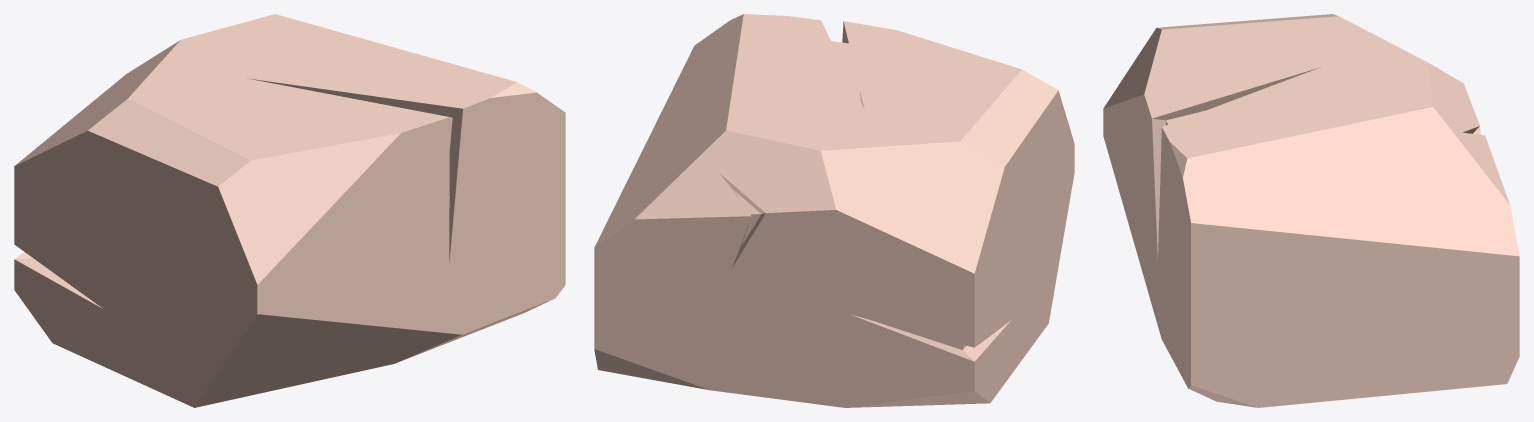
File: Stone 19.fbx
3 renders of one model, left to right at view 1: azimuth 30°, elevation 25°; view 2: azimuth 150°, elevation 25°; view 3: azimuth 270°, elevation 25°, orthographic. The views are drawn at different scales.
Parts seen in each view (by area): view 1: Stone 19; view 2: Stone 19; view 3: Stone 19.
Part boxes in pixels (x1,y1,x2,y2): Stone 19: (14,14,565,407); Stone 19: (594,14,1074,407); Stone 19: (1103,14,1519,407).
Bounding box in the file's own units: 120 × 66.9 × 108.
